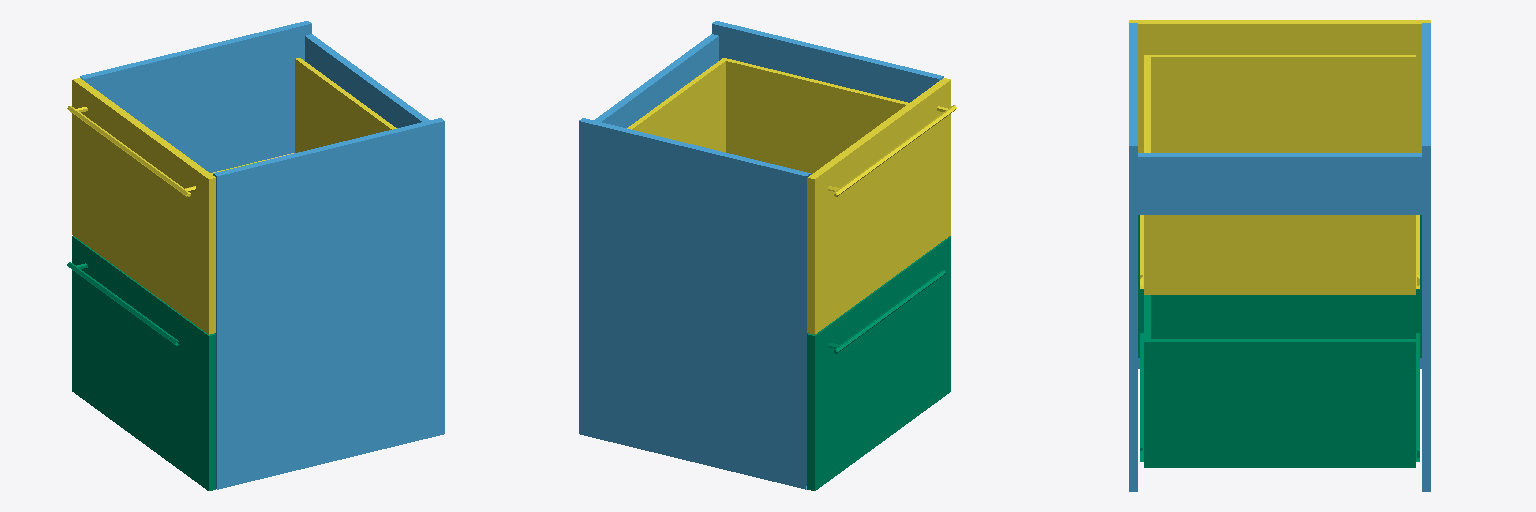
The robot description file, URDF, robot "partnet_9633dbd1bb8c11134c3aee8e9d3a6ffa":
<?xml version="1.0" ?>
<robot name="partnet_9633dbd1bb8c11134c3aee8e9d3a6ffa">
	<link name="base"/>
	    <contact>
      		<lateral_friction value="1.0"/>
      		<rolling_friction value="1"/>
      		<inertia_scaling value="3.0"/>
	    </contact>
	    <inertial>
	      <origin xyz="0. 0. 0." />
	      <mass value="1000000" />
	      <inertia ixx="0.001" ixy="0.0" ixz="0.0" iyy="0.001" iyz="0.0" izz="0.001" />
	    </inertial>
	<link name="link_0">
		<visual name="vertical_side_panel-23">
			<origin xyz="0 0 0"/>
			<geometry>
				<mesh filename="textured_objs/original-7.obj"/>
			</geometry>
		</visual>
		<visual name="vertical_side_panel-23">
			<origin xyz="0 0 0"/>
			<geometry>
				<mesh filename="textured_objs/original-6.obj"/>
			</geometry>
		</visual>
		<visual name="vertical_side_panel-24">
			<origin xyz="0 0 0"/>
			<geometry>
				<mesh filename="textured_objs/original-4.obj"/>
			</geometry>
		</visual>
		<visual name="vertical_side_panel-24">
			<origin xyz="0 0 0"/>
			<geometry>
				<mesh filename="textured_objs/original-3.obj"/>
			</geometry>
		</visual>
		<visual name="back_panel-25">
			<origin xyz="0 0 0"/>
			<geometry>
				<mesh filename="textured_objs/original-15.obj"/>
			</geometry>
		</visual>
		<visual name="bottom_panel-26">
			<origin xyz="0 0 0"/>
			<geometry>
				<mesh filename="textured_objs/original-10.obj"/>
			</geometry>
		</visual>
		<visual name="bottom_panel-26">
			<origin xyz="0 0 0"/>
			<geometry>
				<mesh filename="textured_objs/original-9.obj"/>
			</geometry>
		</visual>
		<visual name="top_panel-27">
			<origin xyz="0 0 0"/>
			<geometry>
				<mesh filename="textured_objs/original-13.obj"/>
			</geometry>
		</visual>
		<visual name="top_panel-27">
			<origin xyz="0 0 0"/>
			<geometry>
				<mesh filename="textured_objs/original-12.obj"/>
			</geometry>
		</visual>
		<visual name="frame_horizontal_bar-28">
			<origin xyz="0 0 0"/>
			<geometry>
				<mesh filename="textured_objs/original-16.obj"/>
			</geometry>
		</visual>
		<visual name="frame_horizontal_bar-29">
			<origin xyz="0 0 0"/>
			<geometry>
				<mesh filename="textured_objs/original-14.obj"/>
			</geometry>
		</visual>
		<collision>
			<origin xyz="0 0 0"/>
			<geometry>
				<mesh filename="textured_objs/original-7.obj"/>
			</geometry>
		</collision>
		<collision>
			<origin xyz="0 0 0"/>
			<geometry>
				<mesh filename="textured_objs/original-6.obj"/>
			</geometry>
		</collision>
		<collision>
			<origin xyz="0 0 0"/>
			<geometry>
				<mesh filename="textured_objs/original-4.obj"/>
			</geometry>
		</collision>
		<collision>
			<origin xyz="0 0 0"/>
			<geometry>
				<mesh filename="textured_objs/original-3.obj"/>
			</geometry>
		</collision>
		<collision>
			<origin xyz="0 0 0"/>
			<geometry>
				<mesh filename="textured_objs/original-15.obj"/>
			</geometry>
		</collision>
		<collision>
			<origin xyz="0 0 0"/>
			<geometry>
				<mesh filename="textured_objs/original-10.obj"/>
			</geometry>
		</collision>
		<collision>
			<origin xyz="0 0 0"/>
			<geometry>
				<mesh filename="textured_objs/original-9.obj"/>
			</geometry>
		</collision>
		<collision>
			<origin xyz="0 0 0"/>
			<geometry>
				<mesh filename="textured_objs/original-13.obj"/>
			</geometry>
		</collision>
		<collision>
			<origin xyz="0 0 0"/>
			<geometry>
				<mesh filename="textured_objs/original-12.obj"/>
			</geometry>
		</collision>
		<collision>
			<origin xyz="0 0 0"/>
			<geometry>
				<mesh filename="textured_objs/original-16.obj"/>
			</geometry>
		</collision>
		<collision>
			<origin xyz="0 0 0"/>
			<geometry>
				<mesh filename="textured_objs/original-14.obj"/>
			</geometry>
		</collision>
	</link>
	<joint name="joint_0" type="fixed">
		<origin rpy="1.570796326794897 0 -1.570796326794897" xyz="0 0 0"/>
		<child link="link_0"/>
		<parent link="base"/>
	</joint>
	<link name="link_1">
		<visual name="drawer_front-14">
			<origin xyz="0 0 0"/>
			<geometry>
				<mesh filename="textured_objs/original-18.obj"/>
			</geometry>
		</visual>
		<visual name="drawer_front-14">
			<origin xyz="0 0 0"/>
			<geometry>
				<mesh filename="textured_objs/original-25.obj"/>
			</geometry>
		</visual>
		<visual name="drawer_side-15">
			<origin xyz="0 0 0"/>
			<geometry>
				<mesh filename="textured_objs/original-23.obj"/>
			</geometry>
		</visual>
		<visual name="drawer_side-16">
			<origin xyz="0 0 0"/>
			<geometry>
				<mesh filename="textured_objs/original-24.obj"/>
			</geometry>
		</visual>
		<visual name="drawer_back-17">
			<origin xyz="0 0 0"/>
			<geometry>
				<mesh filename="textured_objs/original-26.obj"/>
			</geometry>
		</visual>
		<visual name="drawer_bottom-18">
			<origin xyz="0 0 0"/>
			<geometry>
				<mesh filename="textured_objs/original-21.obj"/>
			</geometry>
		</visual>
		<visual name="drawer_bottom-18">
			<origin xyz="0 0 0"/>
			<geometry>
				<mesh filename="textured_objs/original-22.obj"/>
			</geometry>
		</visual>
		<visual name="handle-13">
			<origin xyz="0 0 0"/>
			<geometry>
				<mesh filename="textured_objs/original-30.obj"/>
			</geometry>
		</visual>
		<visual name="handle-13">
			<origin xyz="0 0 0"/>
			<geometry>
				<mesh filename="textured_objs/original-31.obj"/>
			</geometry>
		</visual>
		<visual name="handle-13">
			<origin xyz="0 0 0"/>
			<geometry>
				<mesh filename="textured_objs/original-32.obj"/>
			</geometry>
		</visual>
		<visual name="drawer_rails-19">
			<origin xyz="0 0 0"/>
			<geometry>
				<mesh filename="textured_objs/original-27.obj"/>
			</geometry>
		</visual>
		<visual name="drawer_rails-20">
			<origin xyz="0 0 0"/>
			<geometry>
				<mesh filename="textured_objs/original-28.obj"/>
			</geometry>
		</visual>
		<collision>
			<origin xyz="0 0 0"/>
			<geometry>
				<mesh filename="textured_objs/original-18.obj"/>
			</geometry>
		</collision>
		<collision>
			<origin xyz="0 0 0"/>
			<geometry>
				<mesh filename="textured_objs/original-25.obj"/>
			</geometry>
		</collision>
		<collision>
			<origin xyz="0 0 0"/>
			<geometry>
				<mesh filename="textured_objs/original-23.obj"/>
			</geometry>
		</collision>
		<collision>
			<origin xyz="0 0 0"/>
			<geometry>
				<mesh filename="textured_objs/original-24.obj"/>
			</geometry>
		</collision>
		<collision>
			<origin xyz="0 0 0"/>
			<geometry>
				<mesh filename="textured_objs/original-26.obj"/>
			</geometry>
		</collision>
		<collision>
			<origin xyz="0 0 0"/>
			<geometry>
				<mesh filename="textured_objs/original-21.obj"/>
			</geometry>
		</collision>
		<collision>
			<origin xyz="0 0 0"/>
			<geometry>
				<mesh filename="textured_objs/original-22.obj"/>
			</geometry>
		</collision>
		<collision>
			<origin xyz="0 0 0"/>
			<geometry>
				<mesh filename="textured_objs/original-30.obj"/>
			</geometry>
		</collision>
		<collision>
			<origin xyz="0 0 0"/>
			<geometry>
				<mesh filename="textured_objs/original-31.obj"/>
			</geometry>
		</collision>
		<collision>
			<origin xyz="0 0 0"/>
			<geometry>
				<mesh filename="textured_objs/original-32.obj"/>
			</geometry>
		</collision>
		<collision>
			<origin xyz="0 0 0"/>
			<geometry>
				<mesh filename="textured_objs/original-27.obj"/>
			</geometry>
		</collision>
		<collision>
			<origin xyz="0 0 0"/>
			<geometry>
				<mesh filename="textured_objs/original-28.obj"/>
			</geometry>
		</collision>
	</link>
	<joint name="joint_1" type="prismatic">
		<origin xyz="0 0 0"/>
		<axis xyz="0 0 1"/>
		<child link="link_1"/>
		<parent link="link_0"/>
		<limit lower="0" upper="0.88"/>
	</joint>
	<link name="link_2">
		<visual name="drawer_front-7">
			<origin xyz="0 0 0"/>
			<geometry>
				<mesh filename="textured_objs/original-41.obj"/>
			</geometry>
		</visual>
		<visual name="drawer_front-7">
			<origin xyz="0 0 0"/>
			<geometry>
				<mesh filename="textured_objs/original-34.obj"/>
			</geometry>
		</visual>
		<visual name="drawer_side-8">
			<origin xyz="0 0 0"/>
			<geometry>
				<mesh filename="textured_objs/original-39.obj"/>
			</geometry>
		</visual>
		<visual name="drawer_side-9">
			<origin xyz="0 0 0"/>
			<geometry>
				<mesh filename="textured_objs/original-40.obj"/>
			</geometry>
		</visual>
		<visual name="drawer_back-10">
			<origin xyz="0 0 0"/>
			<geometry>
				<mesh filename="textured_objs/original-42.obj"/>
			</geometry>
		</visual>
		<visual name="drawer_bottom-11">
			<origin xyz="0 0 0"/>
			<geometry>
				<mesh filename="textured_objs/original-38.obj"/>
			</geometry>
		</visual>
		<visual name="drawer_bottom-11">
			<origin xyz="0 0 0"/>
			<geometry>
				<mesh filename="textured_objs/original-37.obj"/>
			</geometry>
		</visual>
		<visual name="handle-6">
			<origin xyz="0 0 0"/>
			<geometry>
				<mesh filename="textured_objs/original-46.obj"/>
			</geometry>
		</visual>
		<visual name="handle-6">
			<origin xyz="0 0 0"/>
			<geometry>
				<mesh filename="textured_objs/original-47.obj"/>
			</geometry>
		</visual>
		<visual name="handle-6">
			<origin xyz="0 0 0"/>
			<geometry>
				<mesh filename="textured_objs/original-48.obj"/>
			</geometry>
		</visual>
		<visual name="drawer_rails-21">
			<origin xyz="0 0 0"/>
			<geometry>
				<mesh filename="textured_objs/original-43.obj"/>
			</geometry>
		</visual>
		<visual name="drawer_rails-22">
			<origin xyz="0 0 0"/>
			<geometry>
				<mesh filename="textured_objs/original-44.obj"/>
			</geometry>
		</visual>
		<collision>
			<origin xyz="0 0 0"/>
			<geometry>
				<mesh filename="textured_objs/original-41.obj"/>
			</geometry>
		</collision>
		<collision>
			<origin xyz="0 0 0"/>
			<geometry>
				<mesh filename="textured_objs/original-34.obj"/>
			</geometry>
		</collision>
		<collision>
			<origin xyz="0 0 0"/>
			<geometry>
				<mesh filename="textured_objs/original-39.obj"/>
			</geometry>
		</collision>
		<collision>
			<origin xyz="0 0 0"/>
			<geometry>
				<mesh filename="textured_objs/original-40.obj"/>
			</geometry>
		</collision>
		<collision>
			<origin xyz="0 0 0"/>
			<geometry>
				<mesh filename="textured_objs/original-42.obj"/>
			</geometry>
		</collision>
		<collision>
			<origin xyz="0 0 0"/>
			<geometry>
				<mesh filename="textured_objs/original-38.obj"/>
			</geometry>
		</collision>
		<collision>
			<origin xyz="0 0 0"/>
			<geometry>
				<mesh filename="textured_objs/original-37.obj"/>
			</geometry>
		</collision>
		<collision>
			<origin xyz="0 0 0"/>
			<geometry>
				<mesh filename="textured_objs/original-46.obj"/>
			</geometry>
		</collision>
		<collision>
			<origin xyz="0 0 0"/>
			<geometry>
				<mesh filename="textured_objs/original-47.obj"/>
			</geometry>
		</collision>
		<collision>
			<origin xyz="0 0 0"/>
			<geometry>
				<mesh filename="textured_objs/original-48.obj"/>
			</geometry>
		</collision>
		<collision>
			<origin xyz="0 0 0"/>
			<geometry>
				<mesh filename="textured_objs/original-43.obj"/>
			</geometry>
		</collision>
		<collision>
			<origin xyz="0 0 0"/>
			<geometry>
				<mesh filename="textured_objs/original-44.obj"/>
			</geometry>
		</collision>
	</link>
	<joint name="joint_2" type="prismatic">
		<origin xyz="0 0 0"/>
		<axis xyz="0 0 1"/>
		<child link="link_2"/>
		<parent link="link_0"/>
		<limit lower="0" upper="0.88"/>
	</joint>
</robot>

--- Render facts (derived) ---
Views: 3 orthographic renders of the robot side by side, from view 1: azimuth 30°, elevation 25°; view 2: azimuth 150°, elevation 25°; view 3: azimuth 270°, elevation 25°.
Model partnet_9633dbd1bb8c11134c3aee8e9d3a6ffa with 4 links and 3 joints (2 prismatic, 1 fixed), rooted at base, posed all joints at 0.
Links seen in each view (by area): view 1: link_0, link_2, link_1; view 2: link_0, link_2, link_1; view 3: link_2, link_1, link_0.
Link boxes in pixels (x1,y1,x2,y2): link_0: (80, 21, 444, 489); link_2: (67, 58, 396, 334); link_1: (67, 236, 215, 490); link_0: (579, 21, 943, 489); link_2: (627, 58, 956, 334); link_1: (807, 236, 950, 490); link_2: (1129, 20, 1430, 294); link_1: (1138, 215, 1421, 467); link_0: (1129, 23, 1430, 491).
Bounding box of the posed robot: 1.16 × 1.1 × 1.39 m (x, y, z).
24 mesh visuals loaded from 35 distinct referenced files (24 OBJ); not drawn: 11 (reference not matched to a file when rendering).